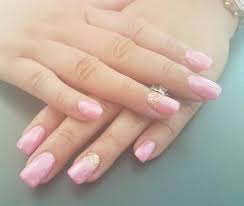nail: (19, 151, 56, 187), (67, 152, 100, 184), (15, 122, 46, 152), (186, 74, 223, 99), (146, 89, 179, 114), (183, 47, 214, 69), (133, 136, 155, 164), (76, 97, 102, 118)
